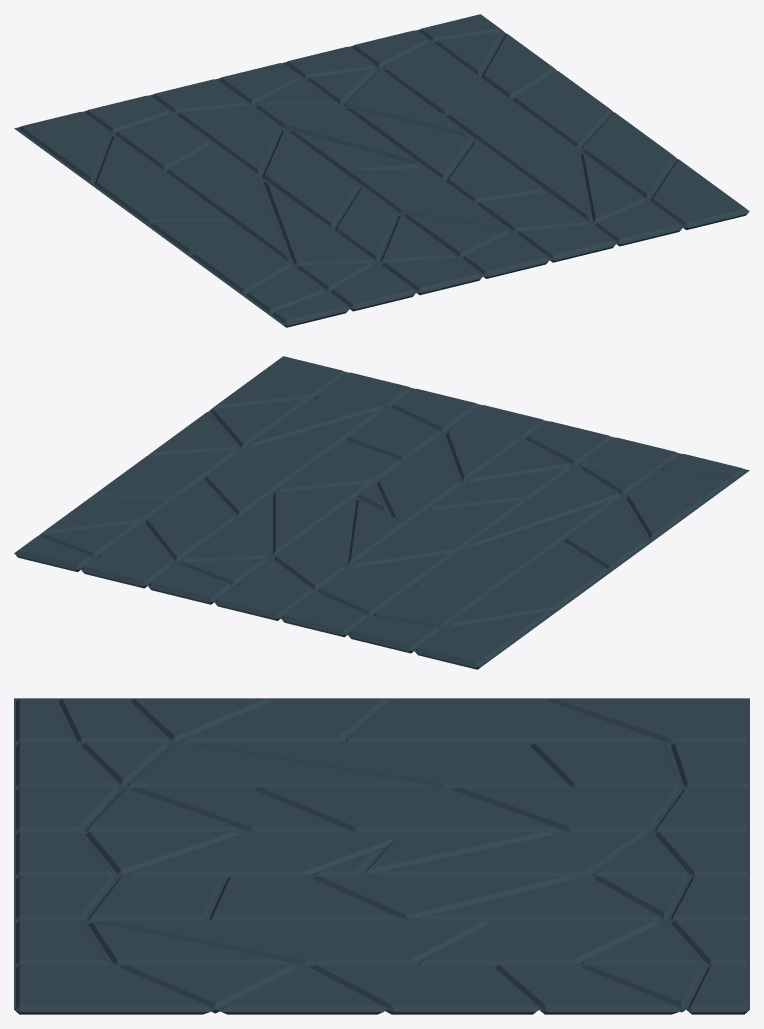
Rendered from zemin2.fbx.
3 renders of one model, top to bottom at view 1: azimuth 30°, elevation 25°; view 2: azimuth 150°, elevation 25°; view 3: azimuth 270°, elevation 25°, orthographic. The views are drawn at different scales.
Visible parts, largest first — view 1: Plane.005, Plane.004; view 2: Plane.005, Plane.004; view 3: Plane.005, Plane.004.
Boxes of the visible parts, x1,y1,x2,y2 form: Plane.005: (19, 14, 748, 327); Plane.004: (14, 29, 749, 325); Plane.005: (15, 356, 744, 669); Plane.004: (14, 371, 749, 667); Plane.005: (14, 698, 749, 1014); Plane.004: (14, 698, 749, 1009).
Bounding box in the file's own units: 201 × 3 × 200.
